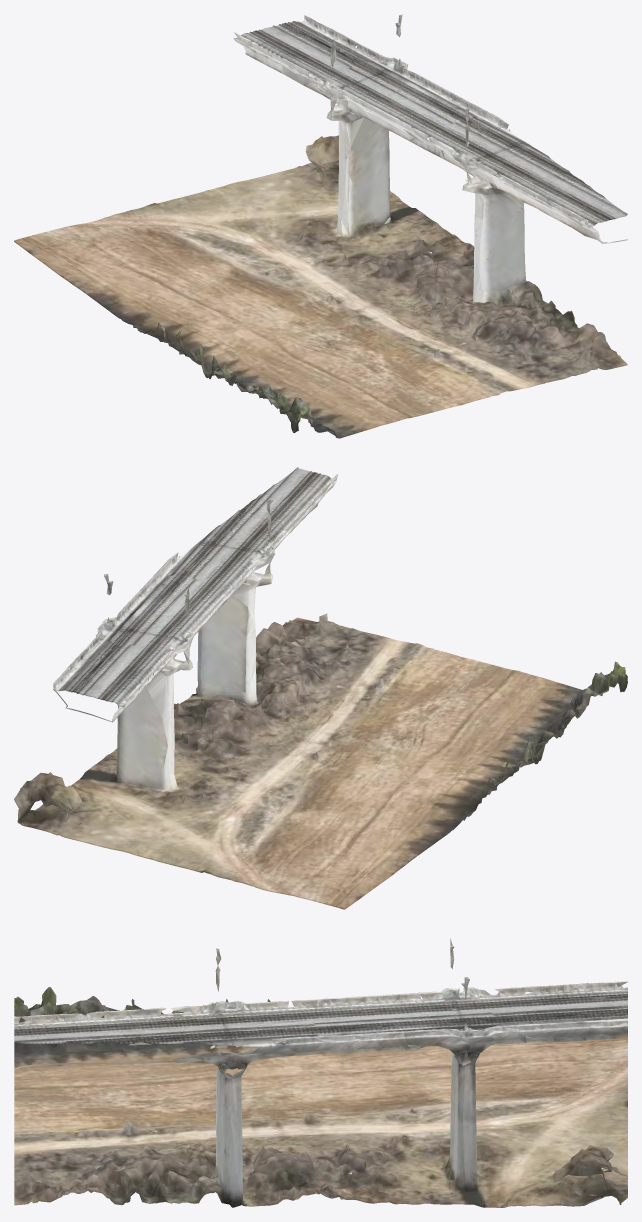
The model's file is Block_L17_32.glb.
3 views of the same model, one above another, from view 1: azimuth 30°, elevation 25°; view 2: azimuth 150°, elevation 25°; view 3: azimuth 270°, elevation 25° (orthographic). The views are drawn at different scales.
Parts seen in each view (by area): view 1: rtc; view 2: rtc; view 3: rtc.
Part boxes in pixels (x1,y1,x2,y2): rtc: (14, 14, 627, 438); rtc: (14, 467, 627, 909); rtc: (14, 938, 627, 1207).
Bounding box in the file's own units: 57.08 × 34.2 × 84.7.
1 material, 1 textured.
